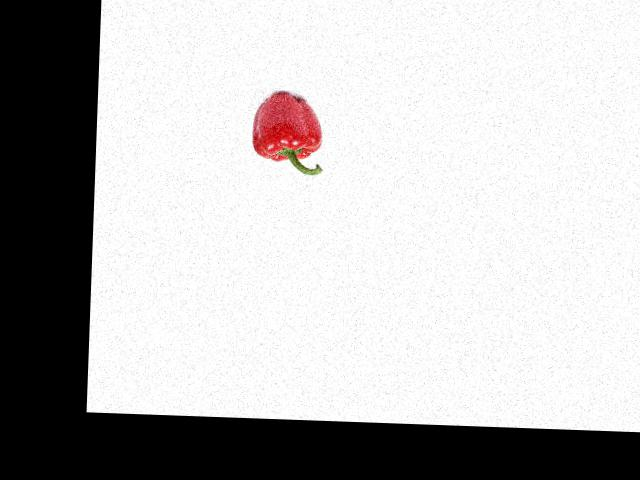bell_pepper: (245, 90, 329, 176)
